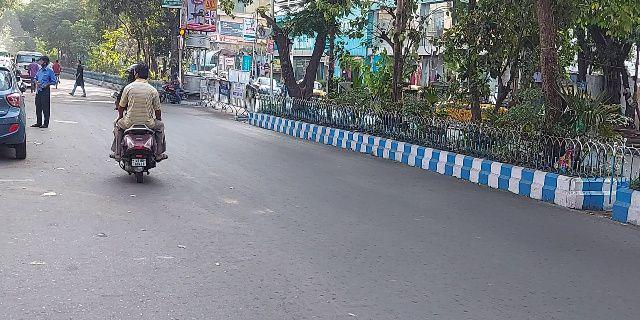Car: (1, 57, 30, 164)
Motorbike: (101, 62, 173, 188)
